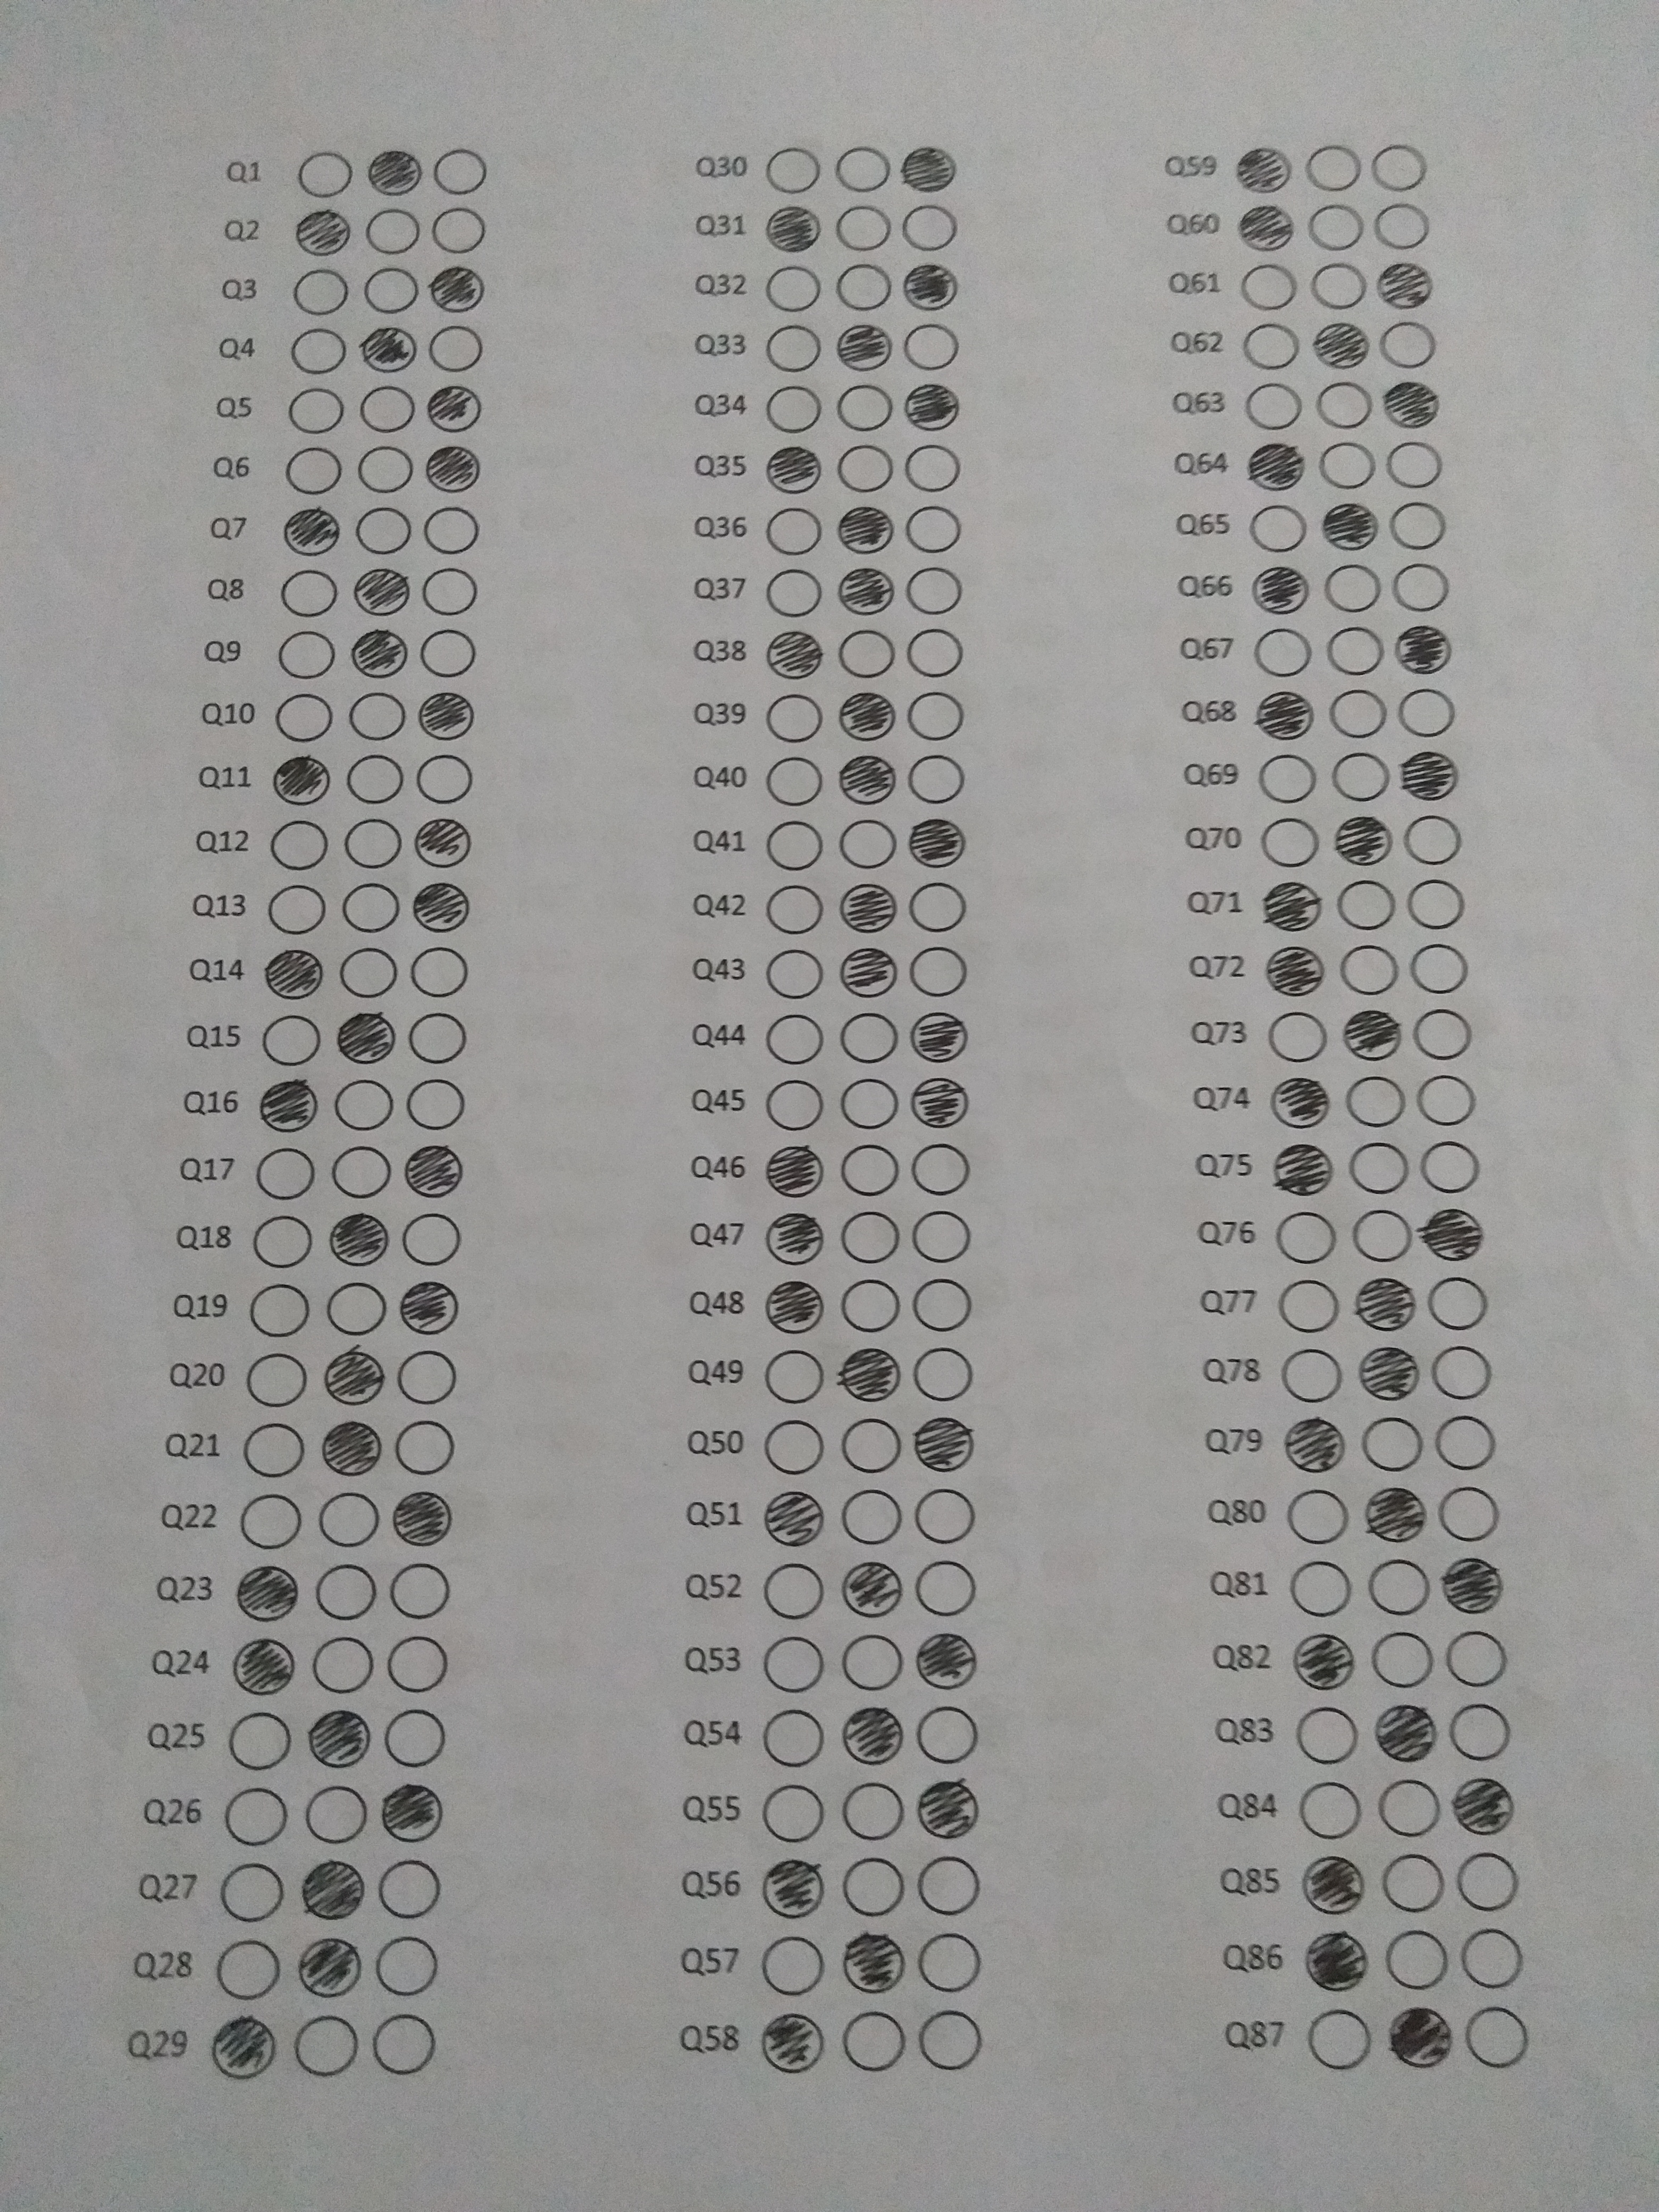not-c: (1462, 2001, 1532, 2069), (1305, 2006, 1375, 2074), (838, 2008, 908, 2076), (369, 2012, 439, 2080), (291, 2013, 361, 2081), (371, 1932, 441, 2000), (218, 1857, 288, 1925), (375, 1853, 444, 1921), (380, 1703, 450, 1771), (310, 1554, 380, 1622), (242, 1346, 312, 1414), (390, 1414, 460, 1482), (244, 1273, 314, 1341), (842, 1777, 911, 1844), (917, 1702, 986, 1770), (915, 1848, 985, 1916), (1375, 1771, 1445, 1839), (1272, 1271, 1342, 1339), (758, 1343, 828, 1411), (760, 1413, 829, 1480), (835, 1413, 904, 1480), (838, 1627, 908, 1695), (910, 1484, 979, 1552), (911, 1554, 981, 1622), (758, 1778, 826, 1846), (1382, 1926, 1450, 1994), (913, 1926, 981, 1994), (915, 2006, 983, 2074), (301, 1780, 369, 1848), (308, 1627, 376, 1695), (382, 1629, 450, 1696), (240, 1416, 308, 1484), (1380, 1850, 1448, 1918), (838, 1482, 906, 1550), (758, 1627, 826, 1695), (758, 1933, 828, 2000), (214, 1935, 284, 2001), (220, 1784, 289, 1850), (223, 1707, 293, 1773), (235, 1487, 305, 1554), (314, 1486, 383, 1552), (1291, 1702, 1361, 1768), (842, 1853, 911, 1919), (1297, 1777, 1366, 1843), (1459, 1921, 1528, 1987), (908, 1343, 978, 1409), (758, 1557, 828, 1623), (760, 1703, 829, 1770), (385, 1557, 453, 1623), (321, 1273, 389, 1339), (1455, 1846, 1523, 1912), (1368, 1627, 1436, 1693), (1288, 1554, 1354, 1620), (1432, 1409, 1499, 1475), (1445, 1623, 1511, 1689), (1424, 1271, 1492, 1336), (1445, 1700, 1511, 1764), (1438, 1479, 1504, 1543), (1358, 1411, 1424, 1475), (1429, 1341, 1495, 1406), (1279, 1343, 1345, 1407), (1284, 1482, 1351, 1547), (1364, 1552, 1431, 1616), (392, 1345, 458, 1407), (763, 1075, 828, 1134), (762, 876, 826, 935), (762, 749, 826, 808), (396, 1209, 460, 1268), (404, 1073, 469, 1132), (328, 1075, 392, 1134), (403, 1007, 467, 1066), (338, 876, 403, 935), (1272, 1207, 1337, 1266), (1351, 1204, 1415, 1263), (1344, 1071, 1408, 1130), (1406, 937, 1471, 996), (906, 941, 971, 1000), (838, 1277, 903, 1336), (908, 1204, 972, 1263), (838, 1209, 903, 1268), (836, 1076, 904, 1132), (836, 812, 899, 871), (763, 813, 826, 873), (249, 1211, 312, 1270), (253, 1143, 315, 1202), (258, 1010, 321, 1069), (406, 941, 469, 1000), (336, 941, 399, 1000), (1419, 1136, 1481, 1195), (1349, 1137, 1412, 1197), (1417, 1071, 1480, 1130), (1410, 1003, 1473, 1062), (1267, 1007, 1330, 1066), (904, 878, 967, 937), (908, 1275, 971, 1334), (836, 1139, 899, 1198), (763, 942, 826, 1001), (908, 1139, 971, 1198), (836, 1008, 901, 1066), (762, 686, 824, 744), (329, 1141, 392, 1198), (265, 881, 328, 939), (763, 1008, 826, 1066), (763, 564, 826, 620), (904, 625, 967, 681), (904, 561, 967, 617), (343, 751, 406, 806), (274, 627, 336, 683), (416, 625, 479, 681), (1335, 876, 1396, 932), (1403, 876, 1464, 932), (1403, 812, 1464, 867), (1260, 813, 1321, 869), (342, 813, 403, 869), (268, 817, 329, 873), (906, 751, 967, 806), (904, 686, 965, 742), (836, 624, 897, 679), (903, 439, 964, 495), (762, 502, 823, 557), (274, 686, 335, 742), (277, 564, 338, 620), (418, 502, 479, 557), (352, 502, 413, 557), (418, 564, 481, 618), (1338, 942, 1399, 996), (903, 500, 964, 554), (413, 752, 474, 806), (347, 690, 408, 744), (762, 145, 824, 197), (1314, 378, 1377, 430), (1241, 378, 1303, 430), (1241, 319, 1303, 371), (1309, 258, 1371, 310), (1303, 199, 1366, 251), (1368, 139, 1431, 192), (284, 442, 347, 495), (284, 383, 347, 435), (352, 442, 415, 495), (355, 383, 418, 435), (288, 324, 350, 376), (359, 263, 422, 315), (361, 204, 423, 256), (293, 146, 355, 199), (427, 145, 490, 197), (833, 442, 896, 495), (831, 143, 894, 195), (833, 383, 896, 435), (763, 320, 826, 373), (901, 320, 964, 373), (899, 202, 962, 254), (1256, 752, 1319, 805), (1396, 686, 1459, 738), (1253, 625, 1316, 678), (1391, 561, 1453, 613), (1385, 498, 1448, 550), (1385, 437, 1448, 489), (1316, 437, 1378, 489), (1377, 317, 1438, 369), (1239, 261, 1300, 314), (1303, 141, 1364, 193), (425, 320, 486, 373), (291, 266, 352, 319), (427, 204, 488, 256), (763, 383, 824, 435), (762, 261, 823, 314), (835, 200, 896, 253), (1331, 752, 1392, 805), (1330, 686, 1391, 738), (1326, 625, 1387, 678), (1323, 563, 1384, 615), (1248, 502, 1309, 554), (1370, 199, 1432, 249), (835, 263, 896, 314)
taken-c: (209, 2015, 281, 2083), (906, 1413, 979, 1475), (1356, 1343, 1429, 1406), (1279, 1413, 1352, 1475), (911, 1778, 985, 1841), (1295, 1853, 1368, 1916), (1298, 1932, 1371, 1994), (756, 2012, 829, 2074), (293, 1937, 366, 2000), (375, 1782, 448, 1844), (230, 1561, 303, 1623), (314, 1414, 387, 1477), (317, 1346, 390, 1409), (756, 1858, 828, 1921), (835, 1345, 906, 1407), (758, 1489, 829, 1552), (833, 1557, 904, 1620), (1359, 1484, 1431, 1547), (1439, 1555, 1511, 1618), (1290, 1632, 1361, 1695), (1368, 1702, 1439, 1764), (910, 1629, 981, 1691), (836, 1705, 908, 1768), (1446, 1775, 1518, 1838), (835, 1932, 906, 1994), (1384, 2006, 1455, 2069), (298, 1858, 369, 1921), (303, 1705, 375, 1768), (227, 1639, 298, 1702), (387, 1487, 458, 1550), (763, 1204, 831, 1266), (763, 1275, 831, 1336), (1270, 1141, 1340, 1200), (1265, 1071, 1335, 1130), (1337, 1005, 1406, 1064), (1260, 942, 1330, 1001), (1316, 495, 1385, 554), (1243, 435, 1312, 495), (896, 139, 965, 199), (422, 376, 491, 435), (423, 260, 493, 319), (392, 1280, 462, 1339), (322, 1211, 392, 1270), (333, 1010, 403, 1069), (404, 876, 474, 935), (408, 812, 477, 871), (347, 624, 416, 683), (903, 1007, 972, 1066), (762, 1137, 829, 1197), (1387, 620, 1455, 679), (418, 441, 486, 500), (397, 1144, 465, 1204), (1349, 1273, 1419, 1331), (1258, 878, 1328, 935), (1392, 745, 1462, 803), (354, 319, 423, 376), (288, 204, 357, 261), (359, 143, 429, 200), (260, 944, 329, 1001), (411, 686, 481, 744), (901, 1075, 971, 1132), (1420, 1204, 1488, 1261), (1330, 812, 1398, 869), (1248, 561, 1316, 618), (1230, 139, 1298, 197), (256, 1078, 324, 1136), (347, 564, 415, 622), (835, 942, 903, 1000), (268, 752, 336, 808), (760, 627, 826, 683), (1234, 199, 1298, 254), (899, 256, 958, 315), (1253, 686, 1316, 742), (833, 319, 896, 374), (1371, 258, 1438, 310), (838, 751, 899, 806), (282, 503, 343, 559), (1378, 378, 1441, 432), (1310, 317, 1373, 371), (835, 564, 897, 618), (763, 444, 826, 498), (762, 206, 826, 258), (906, 817, 971, 869), (838, 688, 899, 742), (835, 881, 897, 934), (903, 380, 964, 432), (836, 503, 896, 556)
